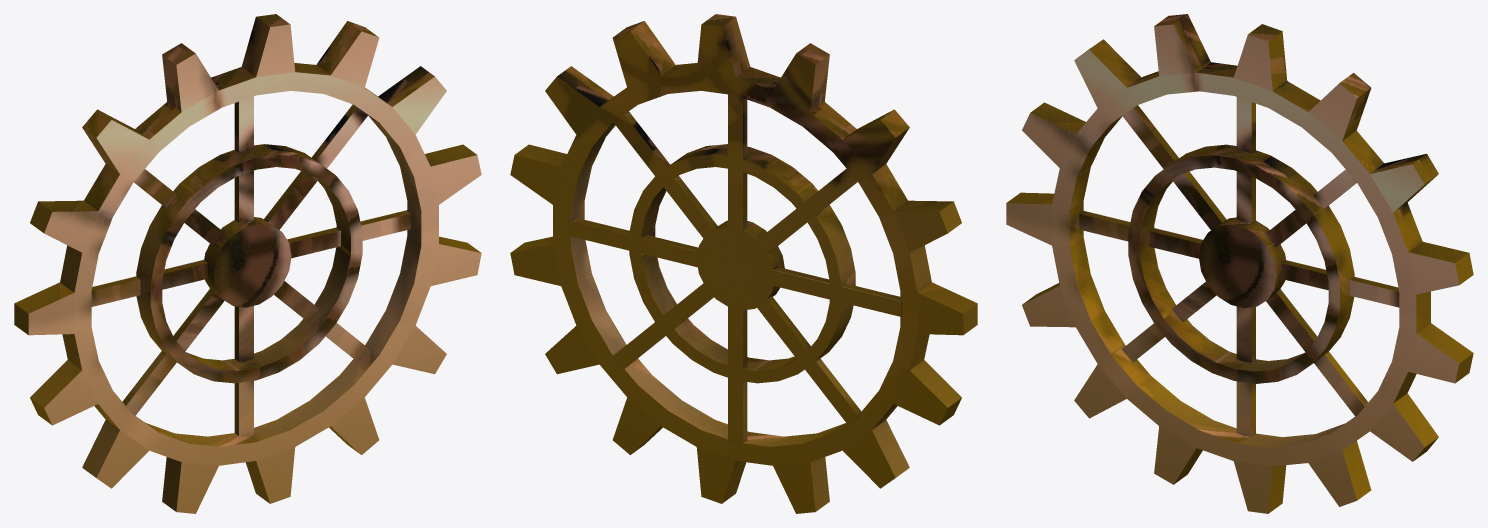
File: engranaje_2.obj
The picture shows the model from 3 angles, left to right: view 1: azimuth 30°, elevation 25°; view 2: azimuth 150°, elevation 25°; view 3: azimuth 330°, elevation 25°; orthographic projection.
Parts seen in each view (by area): view 1: Engranaje2_1_Engrenages; view 2: Engranaje2_1_Engrenages; view 3: Engranaje2_1_Engrenages.
Part boxes in pixels (x1,y1,x2,y2): Engranaje2_1_Engrenages: [14, 14, 481, 513]; Engranaje2_1_Engrenages: [510, 14, 977, 513]; Engranaje2_1_Engrenages: [1006, 14, 1473, 513].
Bounding box in the file's own units: 2.44 × 2.45 × 0.1345.
